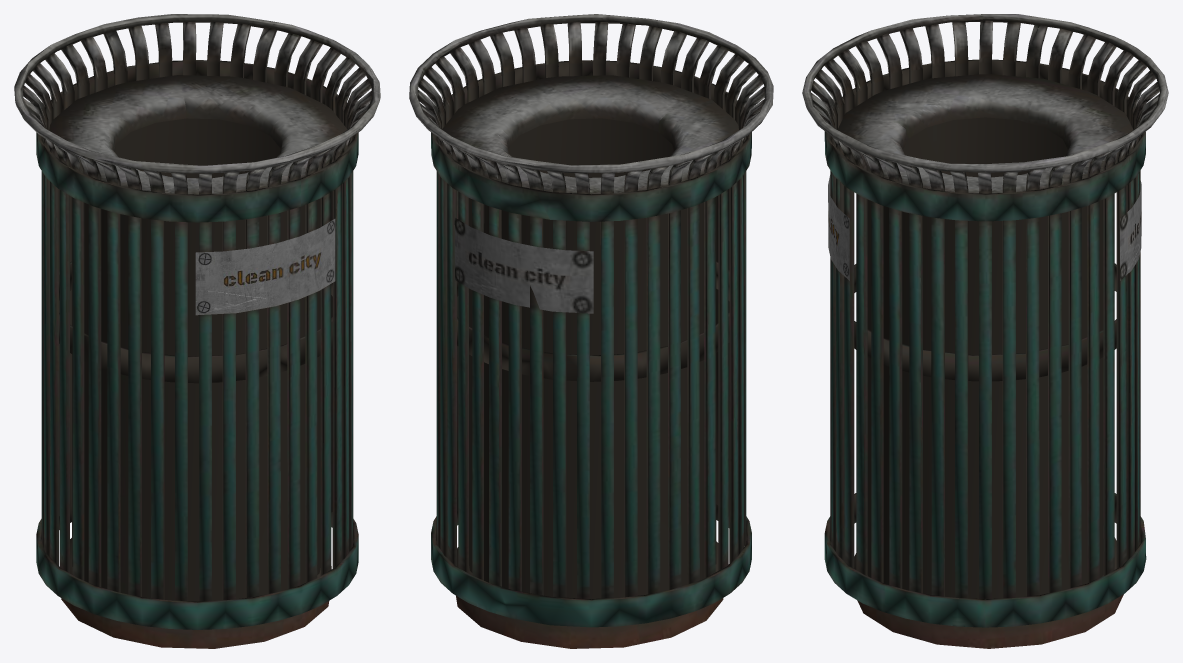
File: bin_metal.glb
3 renders of one model, left to right at view 1: azimuth 30°, elevation 25°; view 2: azimuth 150°, elevation 25°; view 3: azimuth 270°, elevation 25°, orthographic.
Parts seen in each view (by area): view 1: scene_w; view 2: scene_w; view 3: scene_w.
Boxes of the visible parts, box(x1,y1,x2,y2) form: scene_w: box(14, 14, 380, 648); scene_w: box(409, 14, 773, 648); scene_w: box(802, 14, 1168, 648).
Bounding box in the file's own units: 0.6282 × 0.95 × 0.6286.
Materials: 1 (1 with a texture image).
